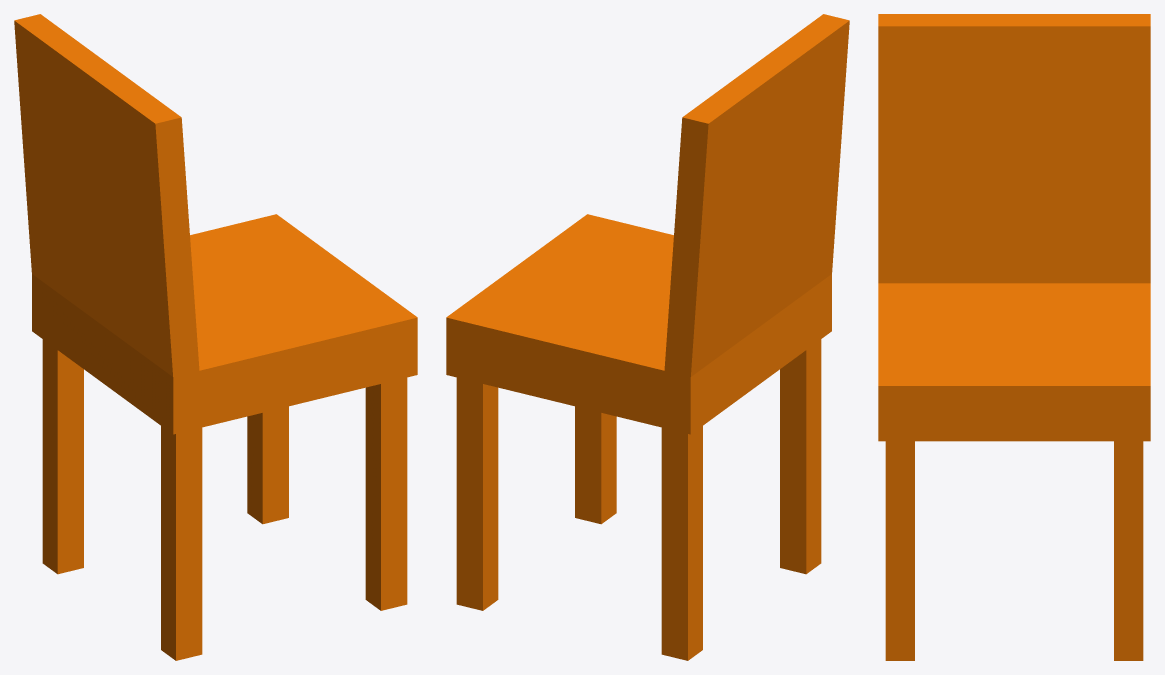
File: Chair.fbx
3 views of the same model, side by side, from view 1: azimuth 30°, elevation 25°; view 2: azimuth 150°, elevation 25°; view 3: azimuth 270°, elevation 25° (orthographic). The views are drawn at different scales.
Visible parts, largest first — view 1: Chair; view 2: Chair; view 3: Chair.
Part boxes in pixels (x1,y1,x2,y2): Chair: (14,14,417,660); Chair: (446,14,849,660); Chair: (878,14,1150,660).
Size of the model in its own units: 0.8309 by 0.7747 by 1.65.
